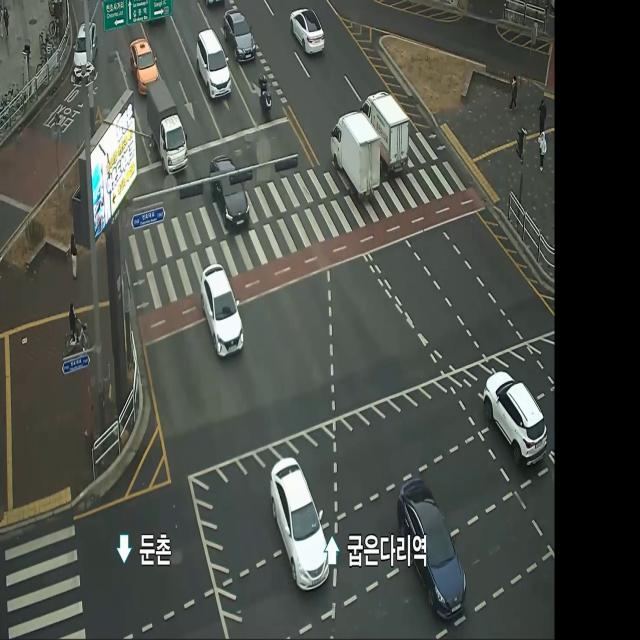bus: (256, 61, 274, 123)
motorcycle: (396, 470, 470, 626), (270, 453, 334, 599), (483, 364, 548, 472), (200, 257, 246, 365), (209, 146, 250, 234), (194, 26, 232, 106), (287, 0, 329, 61), (222, 6, 256, 70), (131, 30, 159, 96), (72, 12, 97, 82)
truck: (331, 104, 384, 200), (146, 76, 188, 180), (364, 91, 411, 174)
